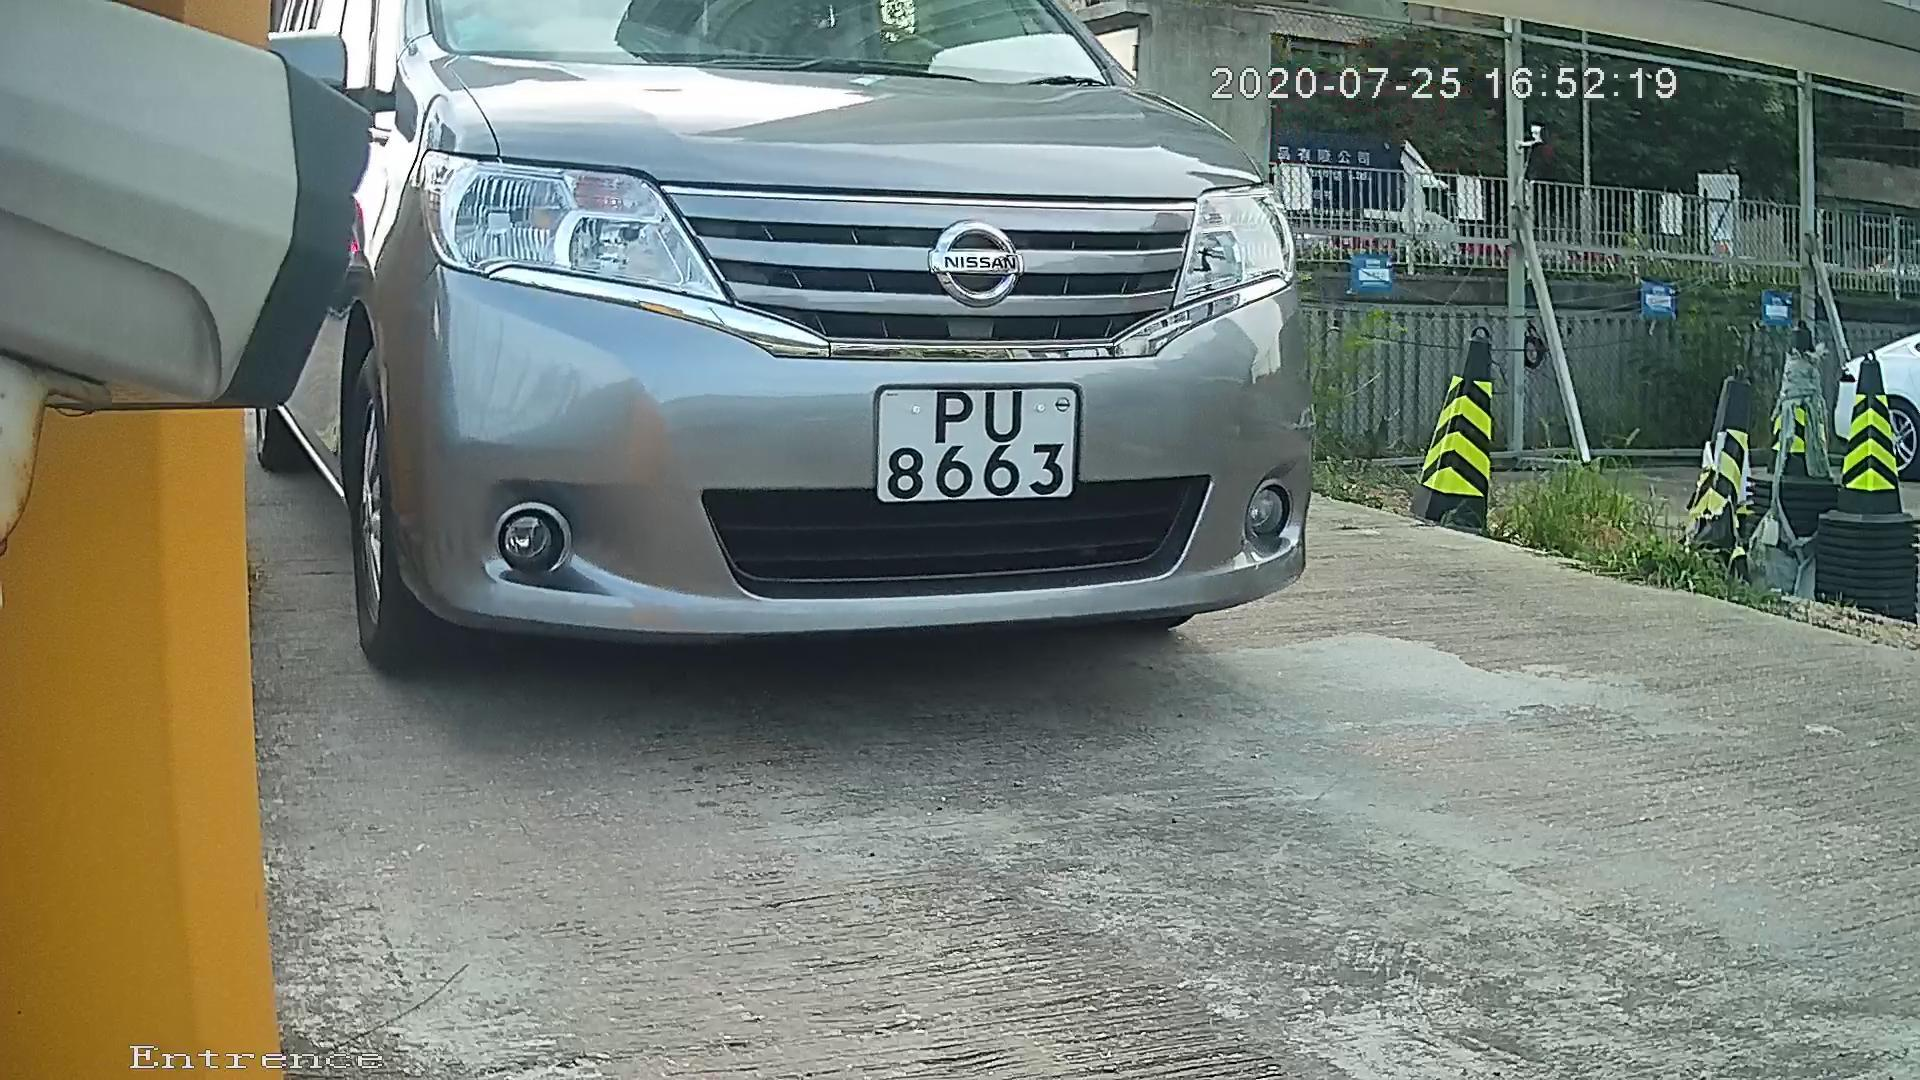privatecar: (194, 3, 1348, 699)
